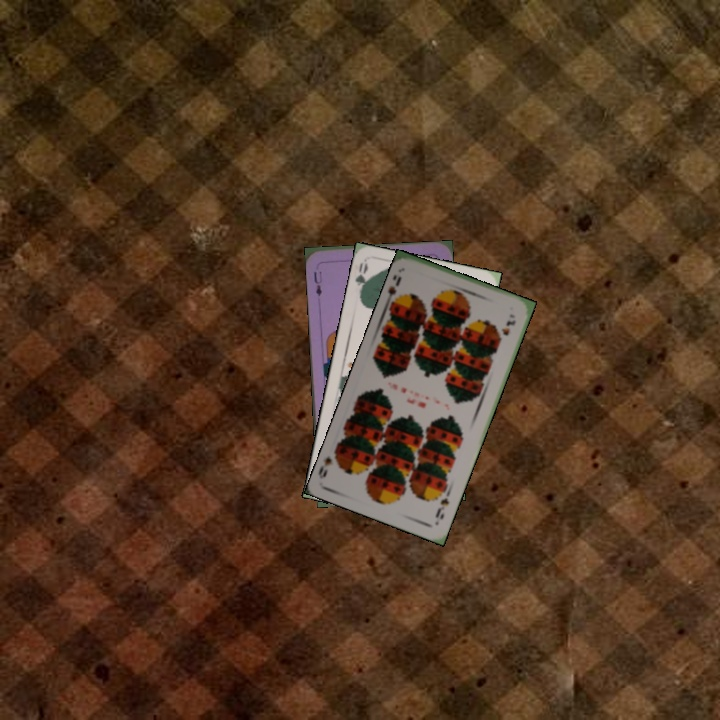EU: (310, 267, 325, 299)
GO: (351, 259, 372, 300)
S9: (431, 485, 453, 522), (382, 272, 404, 306)
